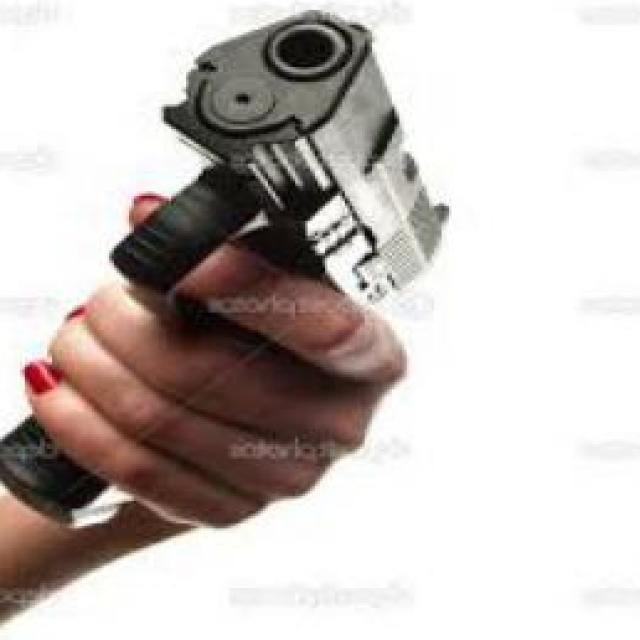pistol: (0, 0, 449, 536)
